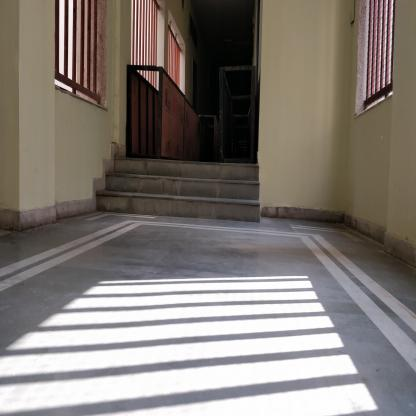stairs: (117, 154, 255, 226)
